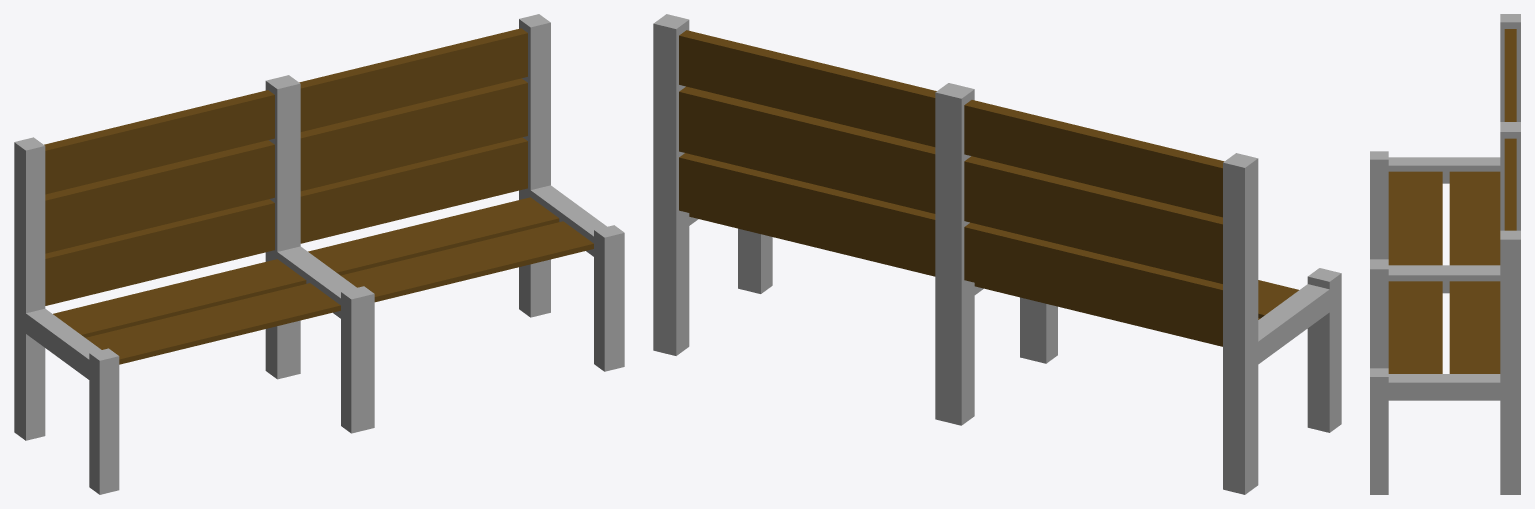
The model's file is Bench.fbx.
3 renders of one model, left to right at view 1: azimuth 30°, elevation 25°; view 2: azimuth 150°, elevation 25°; view 3: azimuth 270°, elevation 25°, orthographic. The views are drawn at different scales.
Visible parts, largest first — view 1: bench; view 2: bench; view 3: bench.
Boxes of the visible parts, box(x1,y1,x2,y2) form: bench: box(14, 14, 624, 494); bench: box(653, 14, 1341, 494); bench: box(1370, 14, 1520, 494).
Size of the model in its own units: 9 by 4.75 by 2.54.
